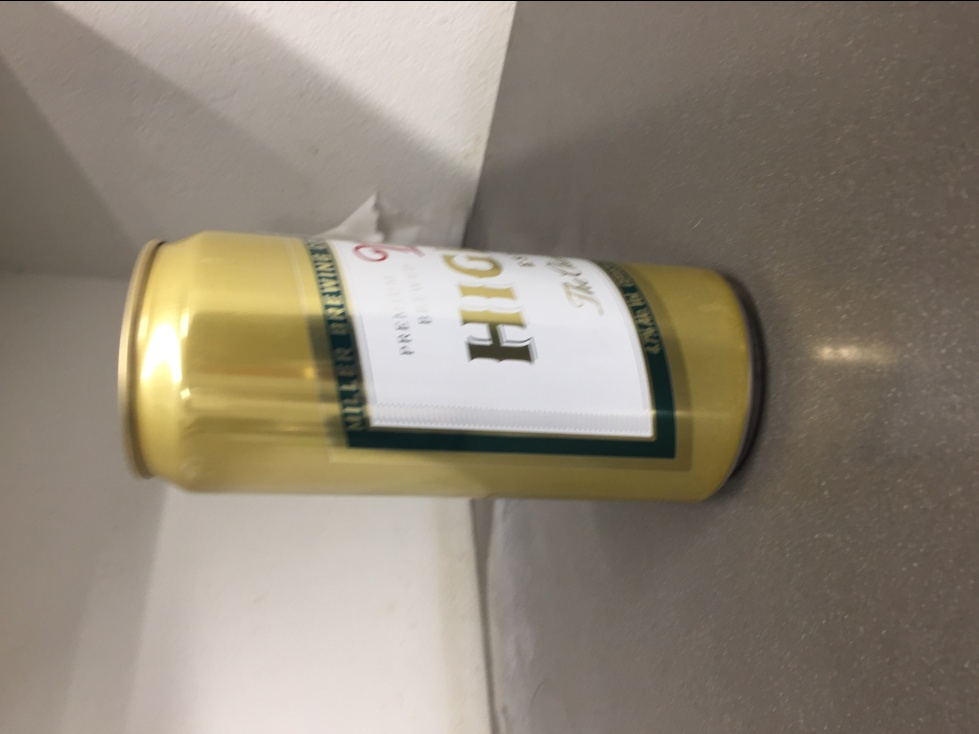miller: (117, 227, 760, 504)
